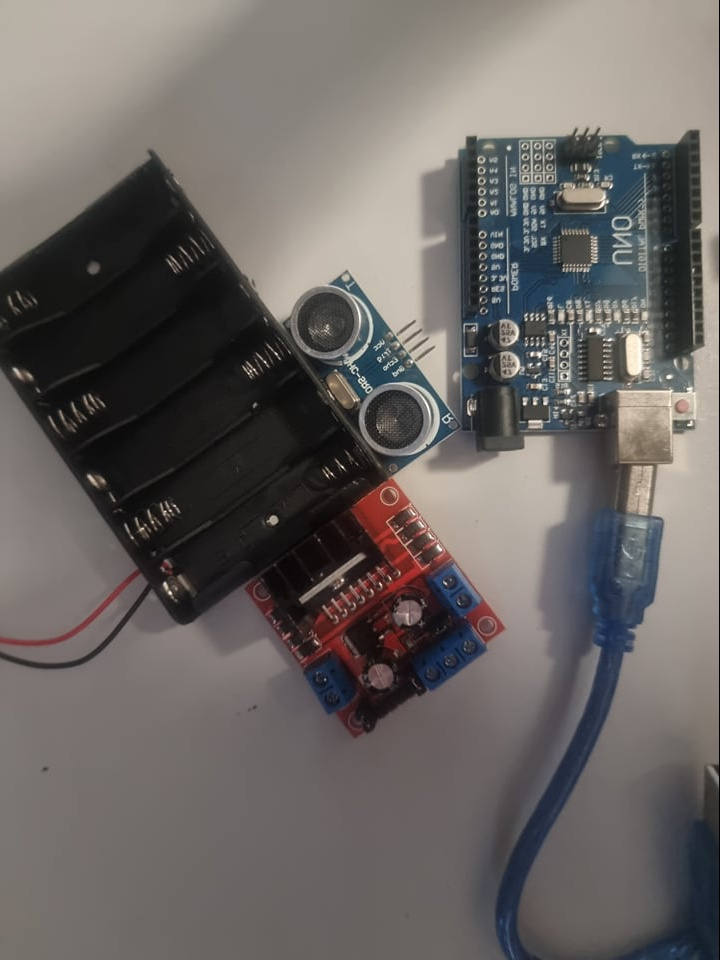BATTERY BOX: (2, 143, 368, 625)
MOTOR: (251, 477, 506, 738)
SENSOR: (287, 270, 463, 465)
UNO R3: (455, 129, 713, 467)
